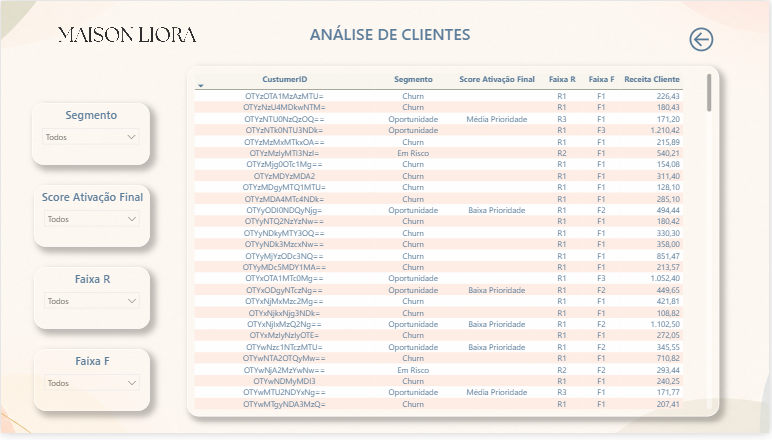

The page's visual inventory and layout, read from the dashboard file:
{"tool":"powerbi","page":{"name":"Análise de Clientes","canvas":[1280,720],"ordinal":2},"visuals":[{"type":"image","box":[0,27.1,420,75.7],"z":0},{"type":"actionButton","box":[1141.2,37.5,65.3,51.4],"z":1000},{"type":"textbox","title":"ANÁLISE DE CLIENTES","box":[382.2,36.1,533.7,72.3],"z":2000},{"type":"slicer","title":"Segmento","fields":{"Values":["DimCliente.Segmento"]},"box":[51.7,170.5,195.7,102.9],"z":3000},{"type":"slicer","title":"Score Ativação Final","fields":{"Values":["DimCliente.Score Ativação"]},"box":[54.5,307.2,192.9,102.9],"z":4000},{"type":"slicer","title":"Faixa R","fields":{"Values":["DimCliente.Faixa R"]},"box":[54.5,443.8,192.9,102.9],"z":5000},{"type":"slicer","title":"Faixa F","fields":{"Values":["DimCliente.Faixa F"]},"box":[54.5,580.5,192.9,102.9],"z":6000},{"type":"tableEx","title":"Análise Individual de Clientes","fields":{"Values":["Clientes_SIDE_B.CustumerID","DimCliente.Segmento","DimCliente.Score Ativação Final","DimCliente.Faixa R","DimCliente.Faixa F","DimCliente.Receita Cliente"]},"box":[310,108.4,886.8,583.8],"z":7000}]}

Visuals, with their boxes in screenshot pixels (x1, y1, x2, y2), scaled from the page's 1280x720 canvas onto the 772x440 screenshot:
image: [0,17,253,63]
actionButton: [688,23,728,54]
"ANÁLISE DE CLIENTES" textbox: [231,22,552,66]
"Segmento" slicer: [31,104,149,167]
"Score Ativação Final" slicer: [33,188,149,251]
"Faixa R" slicer: [33,271,149,334]
"Faixa F" slicer: [33,355,149,418]
"Análise Individual de Clientes" tableEx: [187,66,722,423]
